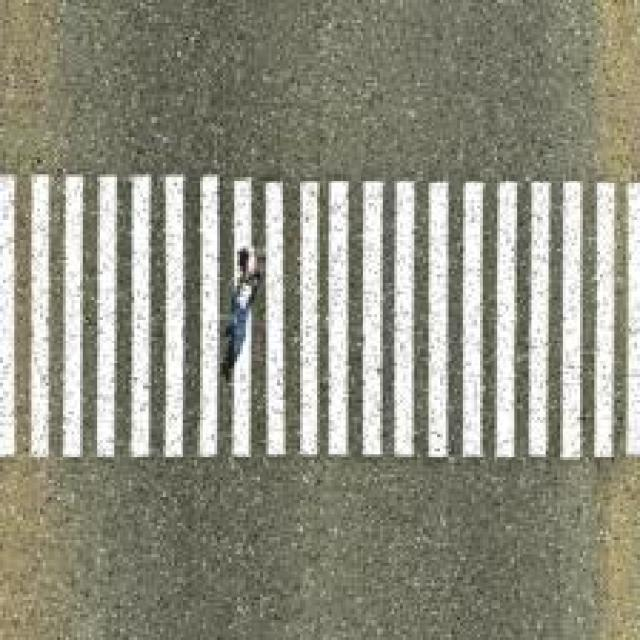walk-crossing: (0, 163, 637, 474)
